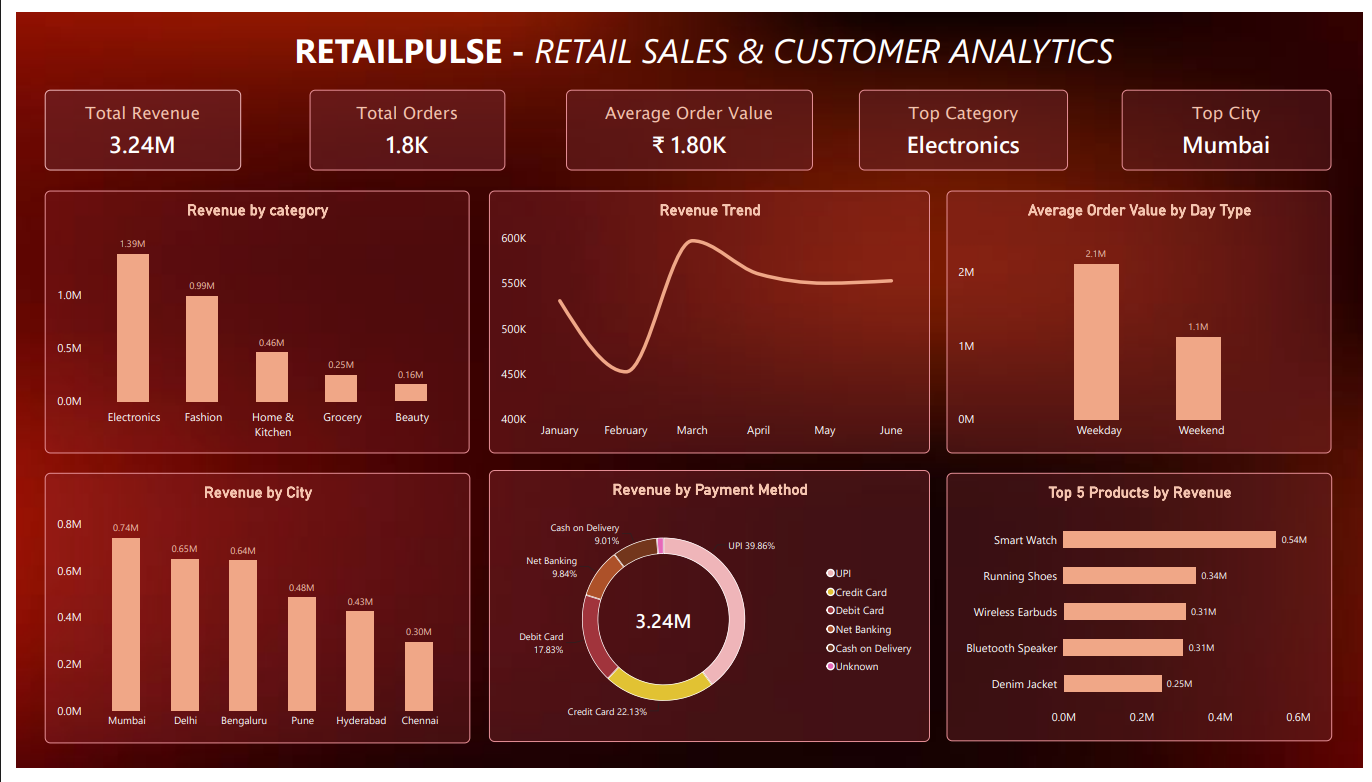

Layout of this report page (visuals, bound fields, positions):
{"tool":"powerbi","page":{"name":"Page 1","canvas":[1920,1080],"ordinal":0},"visuals":[{"type":"cardVisual","title":"Total Revenue","fields":{"Data":["Sum(retailpulse_orders_cleaned.revenue)"]},"box":[40.3,110.2,279.8,114.4],"z":0},{"type":"textbox","box":[343.3,19.1,1275.8,74.2],"z":1000},{"type":"cardVisual","title":"Total Revenue","fields":{"Data":["CountNonNull(retailpulse_orders_cleaned.order_id)"]},"box":[417.5,110.2,279.8,114.4],"z":2000},{"type":"cardVisual","title":"Total Revenue","fields":{"Data":["retailpulse_orders_cleaned.Average Order Value"]},"box":[784.2,110.2,351.8,114.4],"z":3000},{"type":"cardVisual","title":"Total Revenue","fields":{"Data":["retailpulse_orders_cleaned.Top Category"]},"box":[1201.7,110.2,298.8,114.4],"z":4000},{"type":"cardVisual","title":"Total Revenue","fields":{"Data":["retailpulse_orders_cleaned.Top City"]},"box":[1576.8,110.2,298.8,114.4],"z":5000},{"type":"clusteredColumnChart","title":"Revenue by category","fields":{"Category":["retailpulse_orders_cleaned.category"],"Y":["Sum(retailpulse_orders_cleaned.revenue)"]},"box":[40.3,254.3,606.1,375.1],"z":6000},{"type":"lineChart","title":"Revenue Trend","fields":{"Category":["retailpulse_orders_cleaned.order_date.Variation.Date Hierarchy.Month"],"Y":["Sum(retailpulse_orders_cleaned.revenue)"]},"box":[673.9,254.3,629.4,375.1],"z":7000},{"type":"clusteredColumnChart","title":"Revenue by City","fields":{"Category":["retailpulse_orders_cleaned.city"],"Y":["Sum(retailpulse_orders_cleaned.revenue)"]},"box":[40,656.7,606.7,386.7],"z":8000},{"type":"donutChart","title":"Revenue by Payment Method","fields":{"Category":["retailpulse_orders_cleaned.payment_method"],"Y":["Sum(retailpulse_orders_cleaned.revenue)"]},"box":[673.9,652.8,629.4,387.8],"z":9000},{"type":"clusteredColumnChart","title":"Average Order Value by Day Type","fields":{"Category":["retailpulse_orders_cleaned.day_type"],"Y":["Sum(retailpulse_orders_cleaned.revenue)"]},"box":[1326.7,254.3,548.9,375.1],"z":10000},{"type":"clusteredBarChart","title":"Top 5 Products by Revenue","fields":{"Category":["retailpulse_orders_cleaned.product_name"],"Y":["Sum(retailpulse_orders_cleaned.revenue)"]},"box":[1326.7,656.7,550,383.3],"z":11000}]}

Visuals, with their boxes in screenshot pixels (x1, y1, x2, y2), scaled from the page's 1920x1080 canvas onto the 1372x782 screenshot:
"Total Revenue" cardVisual: (left=29, top=80, right=229, bottom=163)
textbox: (left=245, top=14, right=1157, bottom=68)
"Total Revenue" cardVisual: (left=298, top=80, right=498, bottom=163)
"Total Revenue" cardVisual: (left=560, top=80, right=812, bottom=163)
"Total Revenue" cardVisual: (left=859, top=80, right=1072, bottom=163)
"Total Revenue" cardVisual: (left=1127, top=80, right=1340, bottom=163)
"Revenue by category" clusteredColumnChart: (left=29, top=184, right=462, bottom=456)
"Revenue Trend" lineChart: (left=482, top=184, right=931, bottom=456)
"Revenue by City" clusteredColumnChart: (left=29, top=475, right=462, bottom=755)
"Revenue by Payment Method" donutChart: (left=482, top=473, right=931, bottom=753)
"Average Order Value by Day Type" clusteredColumnChart: (left=948, top=184, right=1340, bottom=456)
"Top 5 Products by Revenue" clusteredBarChart: (left=948, top=475, right=1341, bottom=753)
